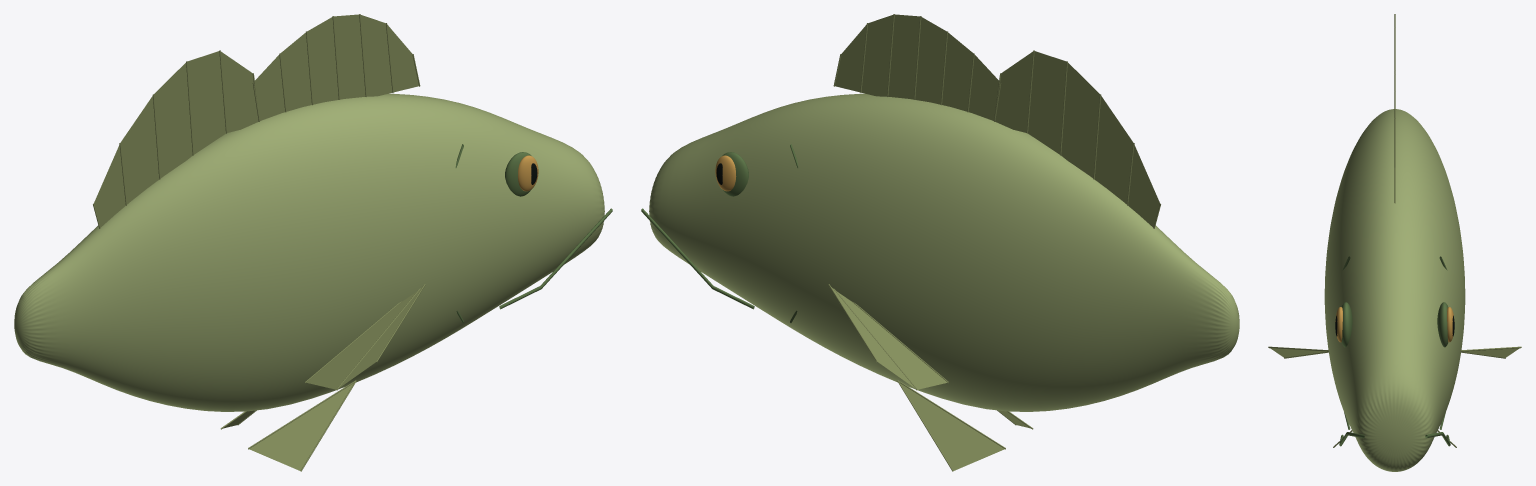
Rendered from SM_PerchBody.fbx.
3 renders of one model, left to right at view 1: azimuth 30°, elevation 25°; view 2: azimuth 150°, elevation 25°; view 3: azimuth 270°, elevation 25°, orthographic. The views are drawn at different scales.
Parts seen in each view (by area): view 1: SM_PerchBody.001; view 2: SM_PerchBody.001; view 3: SM_PerchBody.001.
Boxes of the visible parts, <box> form: SM_PerchBody.001: <box>14,14,612,471</box>; SM_PerchBody.001: <box>641,14,1239,471</box>; SM_PerchBody.001: <box>1268,14,1521,471</box>.
Size of the model in its own units: 29.7 by 11.57 by 20.34.
